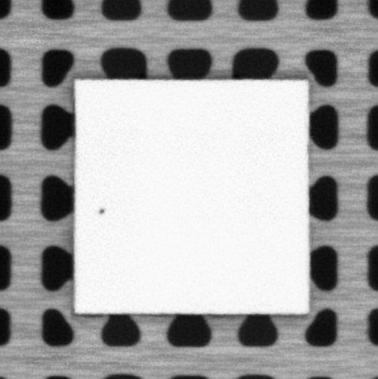DIE_INK: (96, 204, 108, 216)
